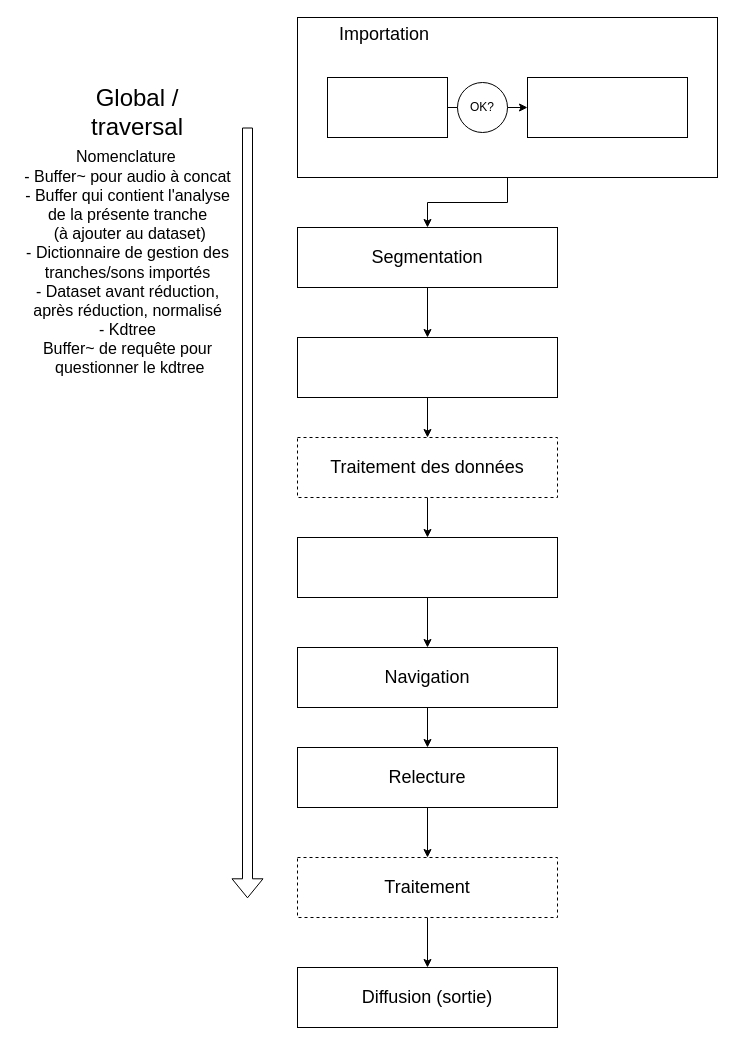
Image size: 735x1045. Some labels were removed from this diagram. Here are the shapes that lost their labels. From the top down, the centre of each, then its label:
At (x=387, y=107): "Panneau de configuration".
At (x=607, y=107): "Module d'importation, nettoyage, segmentation et cataloguage".
At (x=427, y=367): "Analyse".
At (x=427, y=567): "Cartographie".
